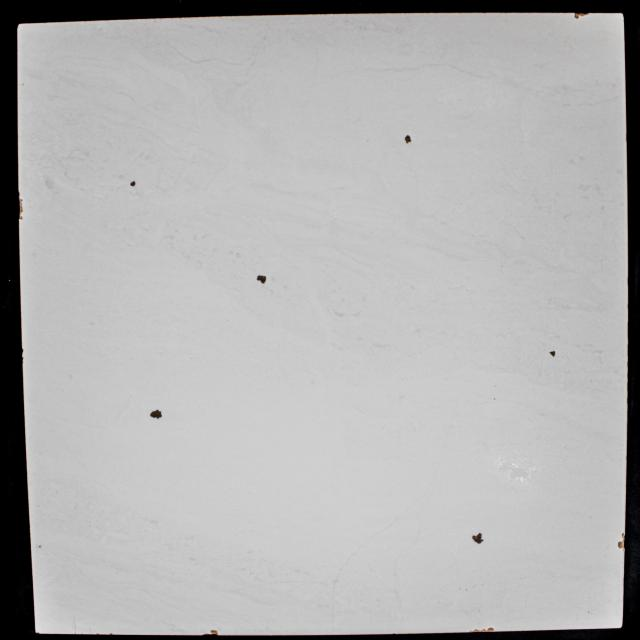edge-chipping: (18, 191, 23, 220), (574, 12, 590, 19), (618, 541, 625, 551), (210, 630, 219, 636), (482, 628, 494, 632), (469, 629, 481, 633), (622, 532, 626, 540), (202, 634, 210, 636), (22, 357, 24, 364), (35, 632, 41, 634), (22, 348, 24, 354), (109, 633, 113, 635), (97, 633, 99, 635)
hole: (472, 533, 484, 544), (150, 409, 162, 419), (257, 275, 266, 284), (404, 135, 412, 144), (130, 180, 136, 187), (550, 351, 556, 356)
